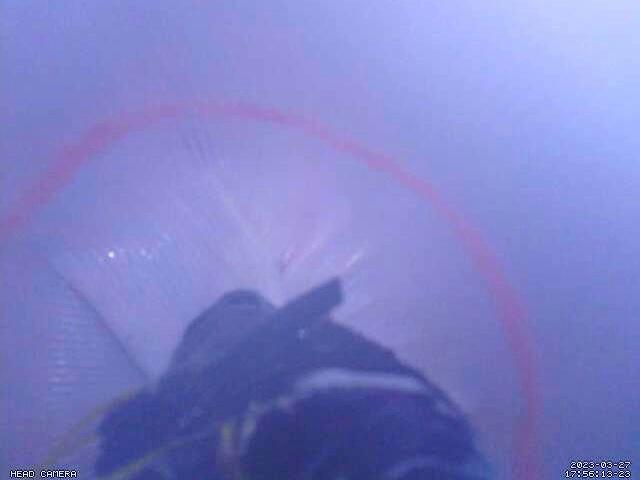head: (0, 97, 545, 480)
